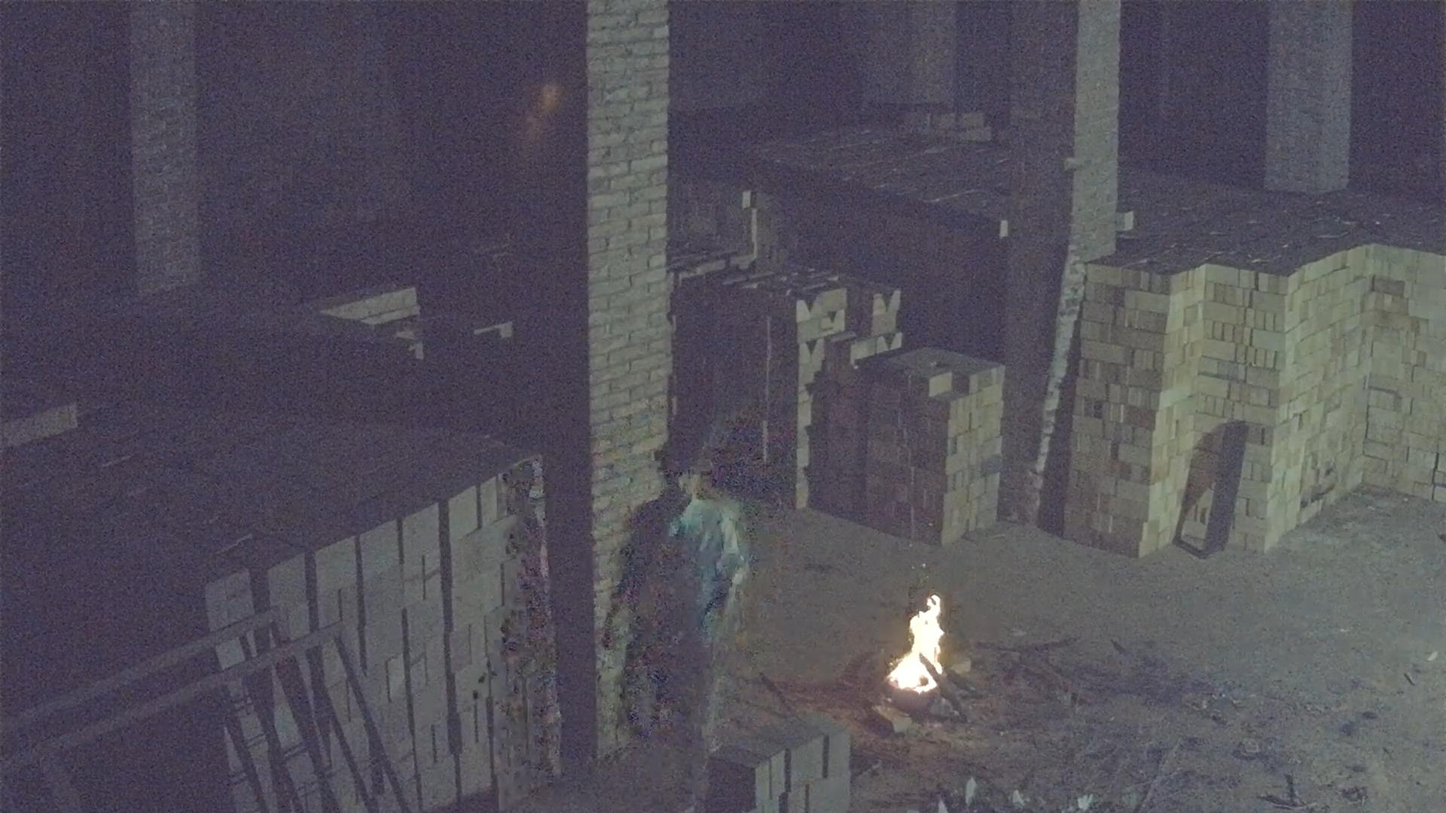fire: (886, 595, 944, 695)
